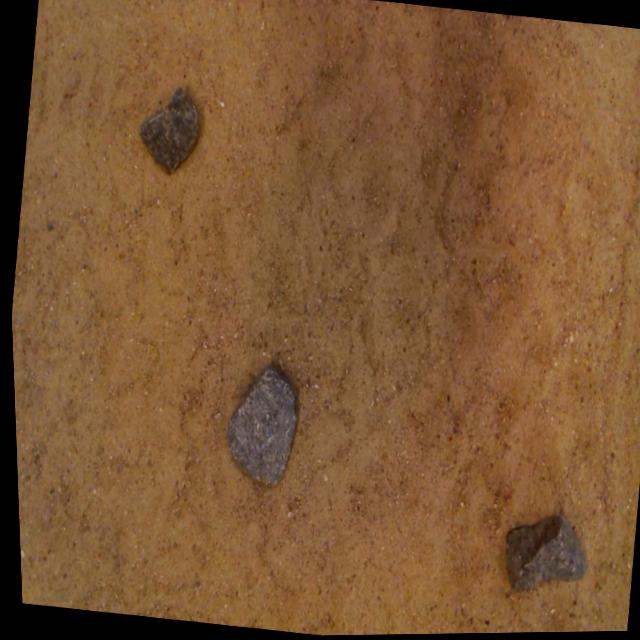rock: (222, 369, 291, 485), (501, 517, 581, 592), (139, 89, 196, 173)
